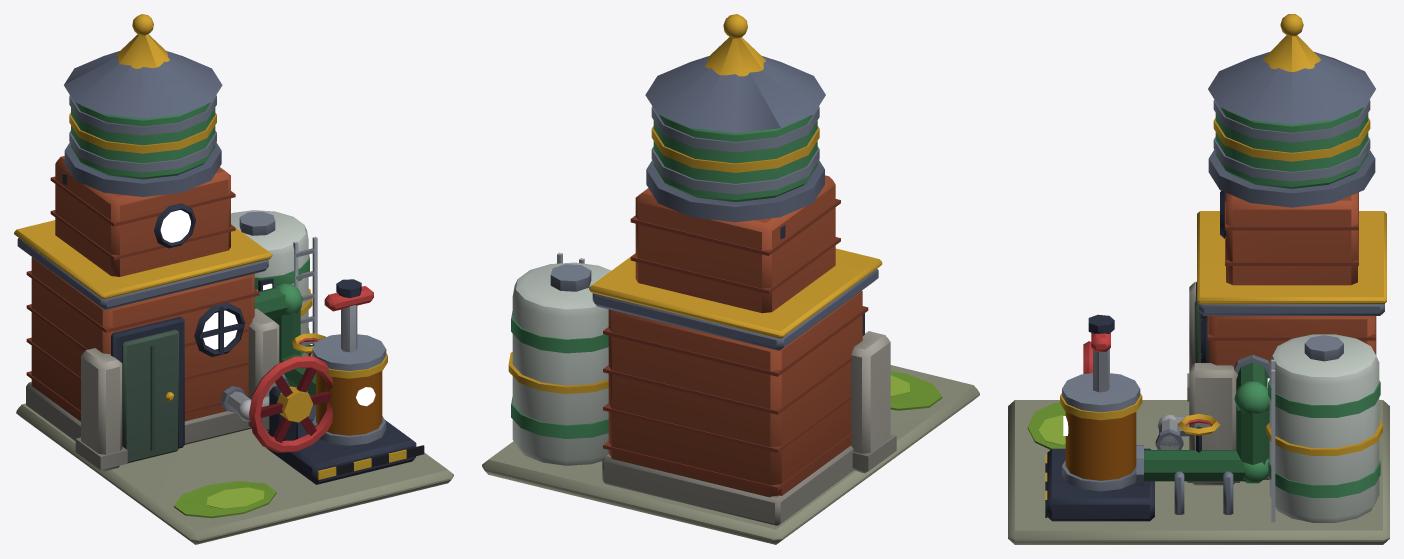
Rendered from o_special_sumpf.glb.
3 renders of one model, left to right at view 1: azimuth 30°, elevation 25°; view 2: azimuth 150°, elevation 25°; view 3: azimuth 270°, elevation 25°, orthographic. The views are drawn at different scales.
Parts seen in each view (by area): view 1: body, lv3_upper, lv4_armor, lv5_gold, lv2_annex, spin_wheel, bob_piston, win_glow, lv5_hub, lv3_win_glow; view 2: body, lv3_upper, lv2_annex, lv5_gold, lv4_armor; view 3: body, lv3_upper, lv2_annex, lv5_gold, lv4_armor, bob_piston.
Part boxes in pixels (bbox=[...]): body: bbox=[16, 172, 453, 544]; lv3_upper: bbox=[50, 51, 235, 276]; lv4_armor: bbox=[69, 95, 424, 479]; lv5_gold: bbox=[14, 14, 387, 378]; lv2_annex: bbox=[231, 210, 317, 356]; spin_wheel: bbox=[249, 356, 332, 452]; bob_piston: bbox=[324, 279, 373, 352]; win_glow: bbox=[202, 310, 375, 406]; lv5_hub: bbox=[277, 386, 312, 422]; lv3_win_glow: bbox=[160, 210, 190, 242]; body: bbox=[482, 225, 979, 544]; lv3_upper: bbox=[630, 56, 840, 313]; lv2_annex: bbox=[511, 252, 611, 465]; lv5_gold: bbox=[508, 14, 882, 393]; lv4_armor: bbox=[651, 106, 896, 473]; body: bbox=[1008, 282, 1389, 544]; lv3_upper: bbox=[1208, 52, 1375, 285]; lv2_annex: bbox=[1268, 334, 1380, 522]; lv5_gold: bbox=[1060, 14, 1386, 455]; lv4_armor: bbox=[1045, 99, 1370, 517]; bob_piston: bbox=[1088, 314, 1114, 392].
Size of the model in its own units: 3.4 by 4.96 by 3.9.
